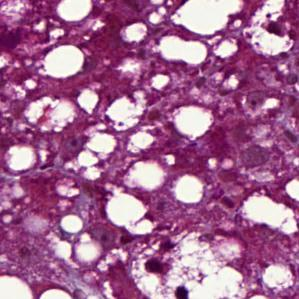ballooning: (126, 225, 250, 296), (240, 2, 293, 56)
